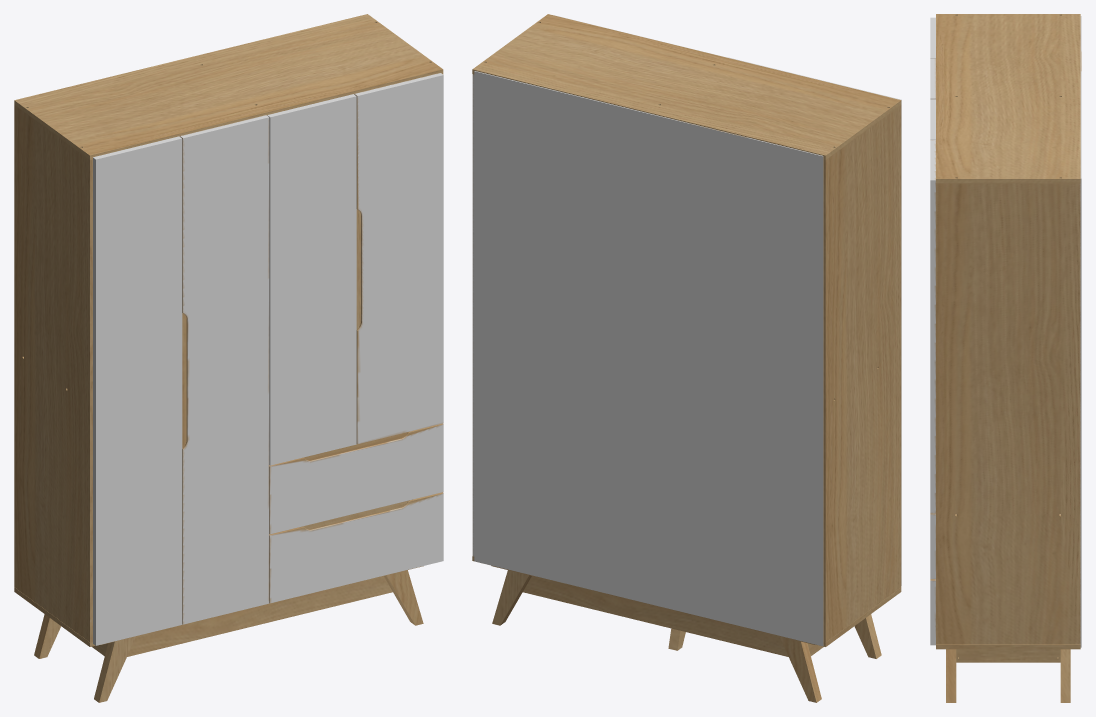
3 renders of one model, left to right at view 1: azimuth 30°, elevation 25°; view 2: azimuth 150°, elevation 25°; view 3: azimuth 270°, elevation 25°, orthographic. The views are drawn at different scales.
Visible parts, largest first — view 1: A742334-COSTADOSIZ; view 2: A742334-COSTADOSIZ; view 3: A742334-COSTADOSIZ.
Boxes of the visible parts, x1,y1,x2,y2 form: A742334-COSTADOSIZ: (14, 14, 443, 702); A742334-COSTADOSIZ: (472, 14, 901, 702); A742334-COSTADOSIZ: (930, 14, 1081, 702).
Bounding box in the file's own units: 12 × 18 × 4.66.
Materials: 1 (1 with a texture image).
